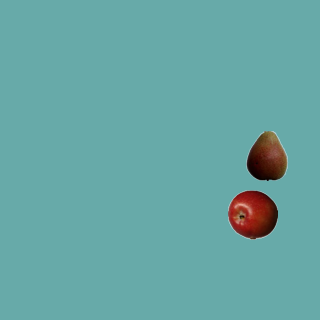Apple Braeburn: (227, 189, 277, 239)
Pear Forelle: (241, 130, 291, 180)
